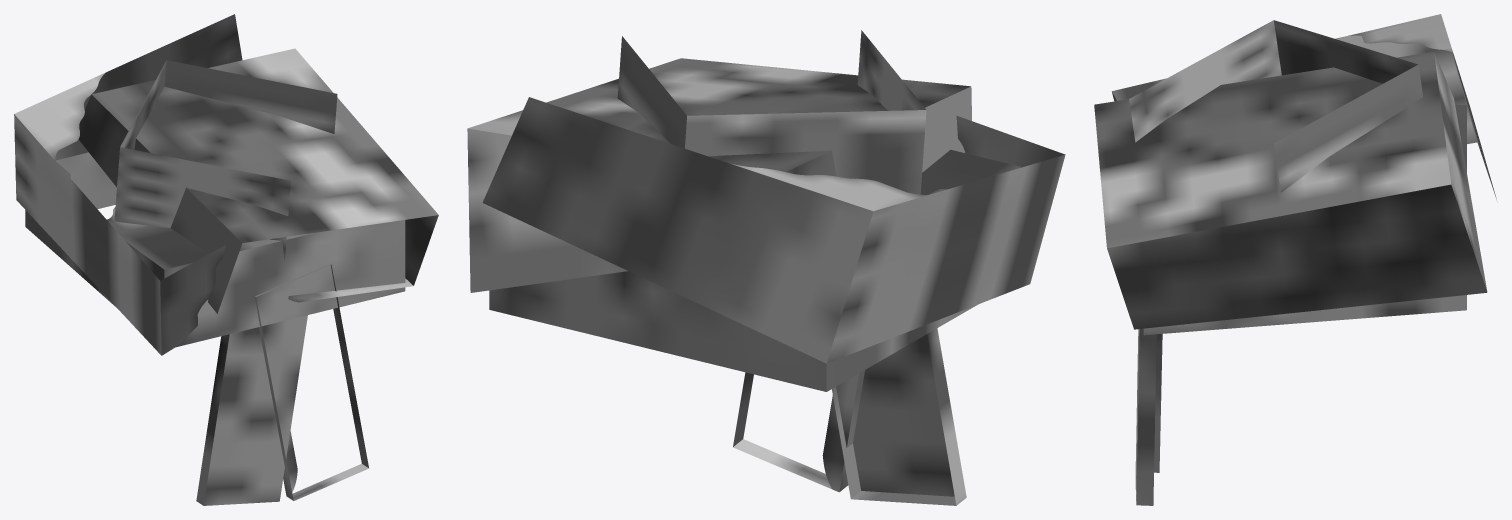
File: vanderer_h.obj
3 renders of one model, left to right at view 1: azimuth 30°, elevation 25°; view 2: azimuth 150°, elevation 25°; view 3: azimuth 270°, elevation 25°, orthographic. The views are drawn at different scales.
Parts seen in each view (by area): view 1: mesh; view 2: mesh; view 3: mesh.
Boxes of the visible parts, <box> form: mesh: <box>14,14,438,505</box>; mesh: <box>467,30,1065,505</box>; mesh: <box>1094,14,1496,505</box>.
Bounding box in the file's own units: 0.6964 × 0.8428 × 0.7333.
